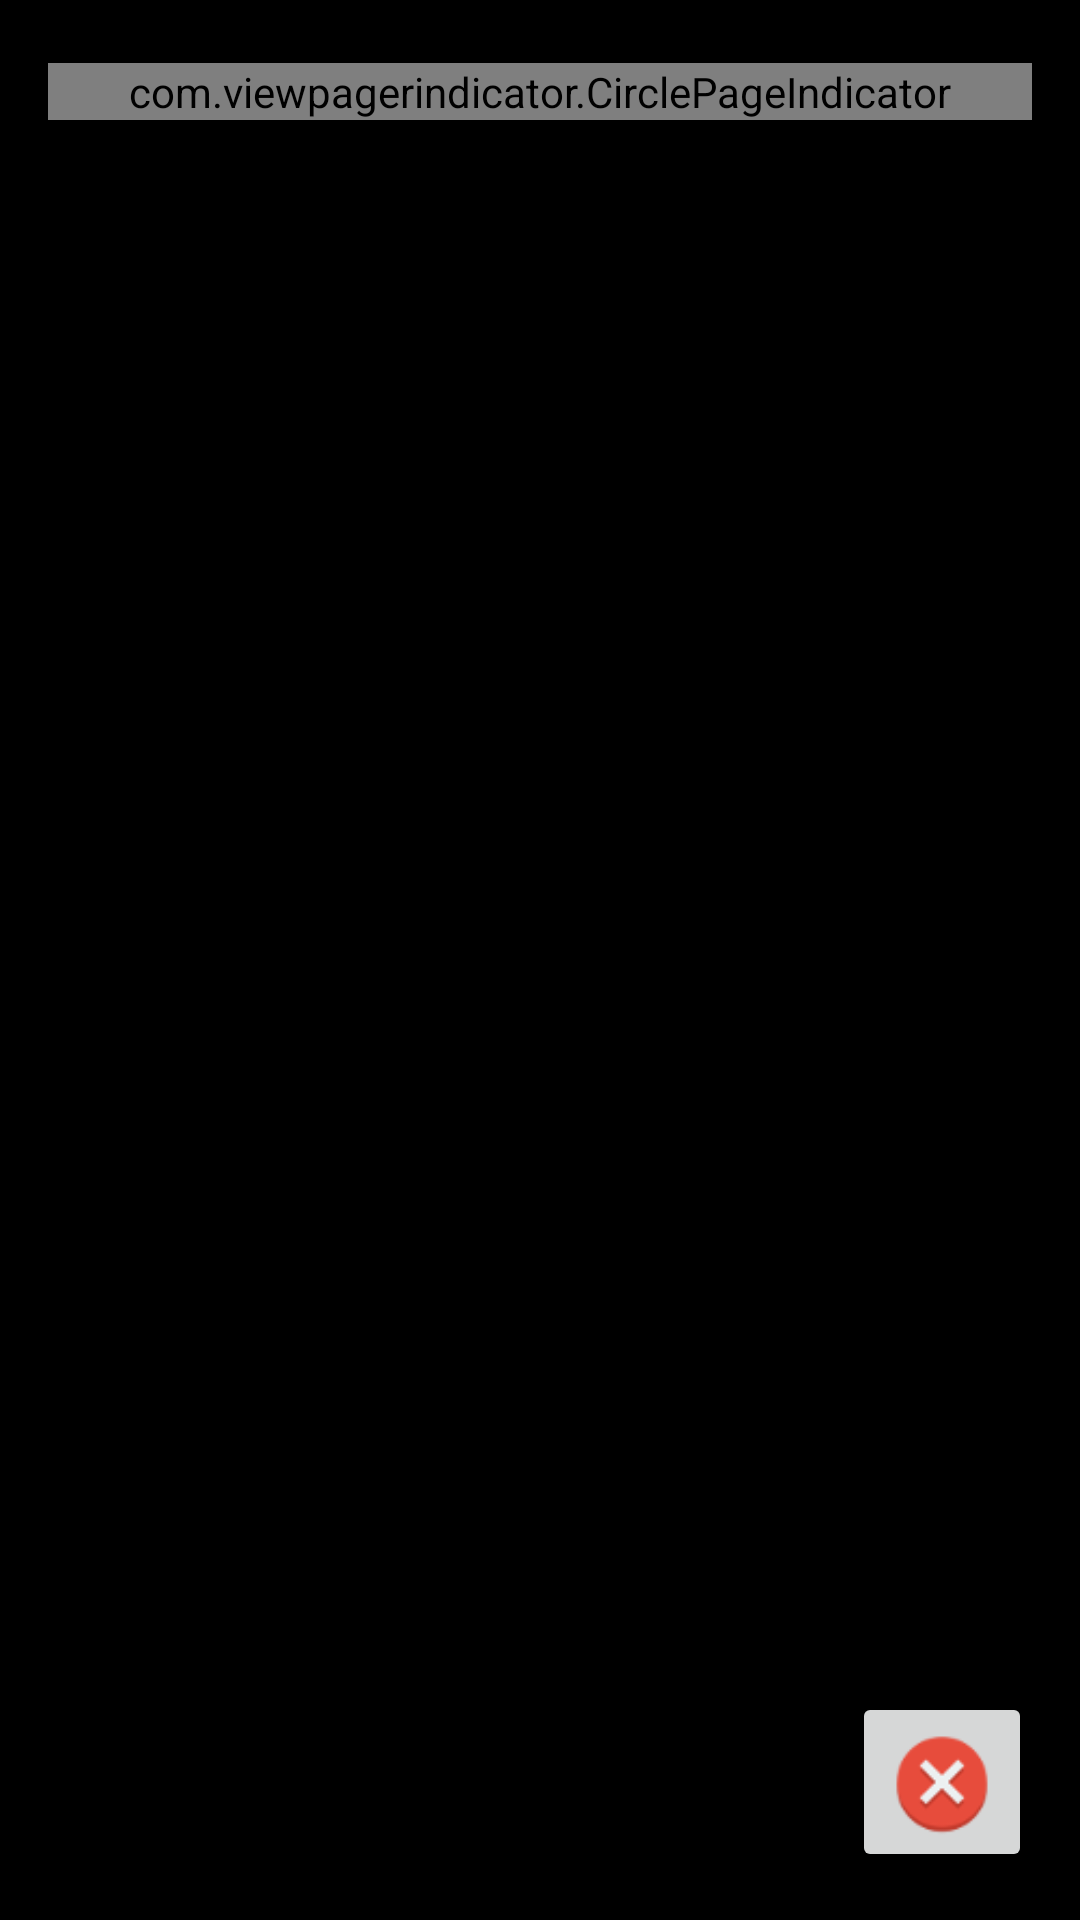

Named icons in this screenshot (1080 × 1920) and their centers, point (x, y):
cancel back: point (942, 1782)
